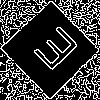E: (25, 24, 81, 80)
